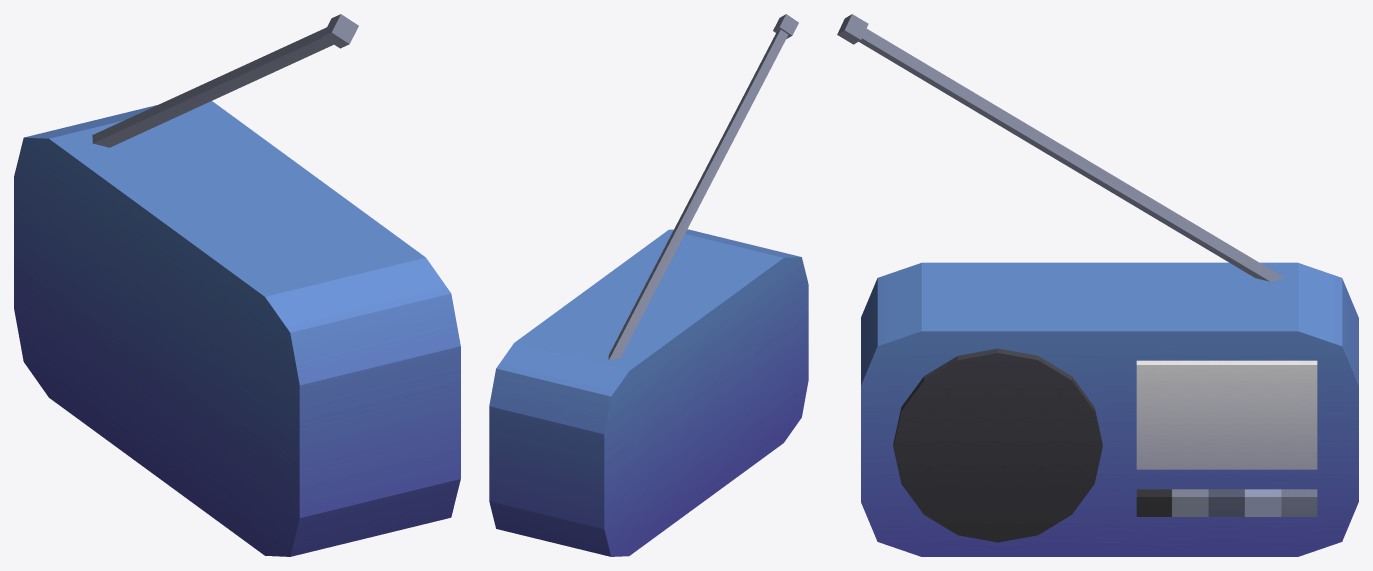
The model's file is radio.glb.
3 views of the same model, side by side, from view 1: azimuth 30°, elevation 25°; view 2: azimuth 150°, elevation 25°; view 3: azimuth 270°, elevation 25° (orthographic). The views are drawn at different scales.
Visible parts, largest first — view 1: Radio; view 2: Radio; view 3: Radio.
Part boxes in pixels (<box>): Radio: <box>14,14,460,556</box>; Radio: <box>489,14,808,556</box>; Radio: <box>837,14,1358,556</box>.
Size of the model in its own units: 0.1088 by 0.3256 by 0.3143.
Materials: 1 (1 with a texture image).
